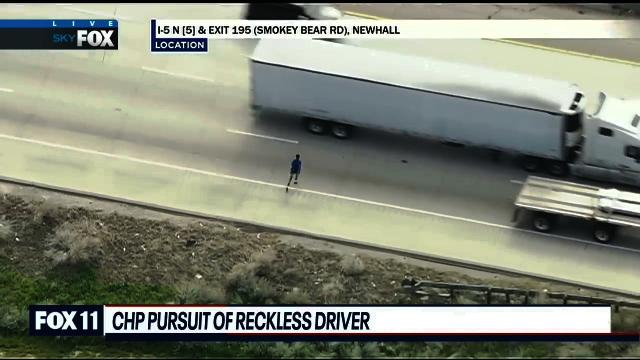berlari: (283, 152, 305, 198)
